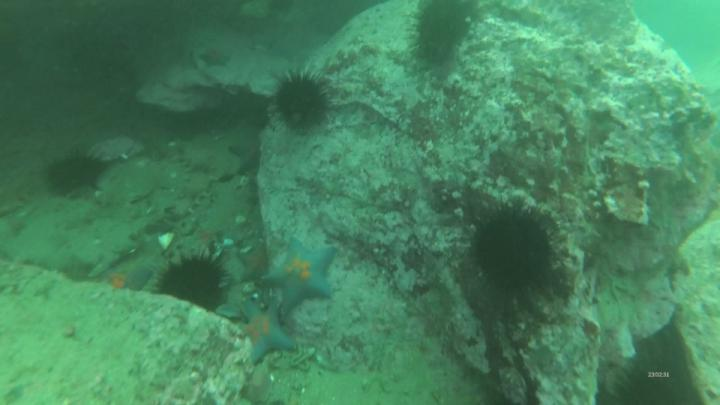echinus: (475, 213, 553, 290), (158, 260, 224, 308), (419, 2, 468, 64), (628, 362, 690, 405), (279, 76, 328, 130), (51, 159, 106, 188)
starfish: (265, 237, 339, 310), (240, 304, 296, 367), (229, 136, 260, 172), (239, 247, 270, 281), (105, 271, 152, 291), (200, 46, 231, 70)
